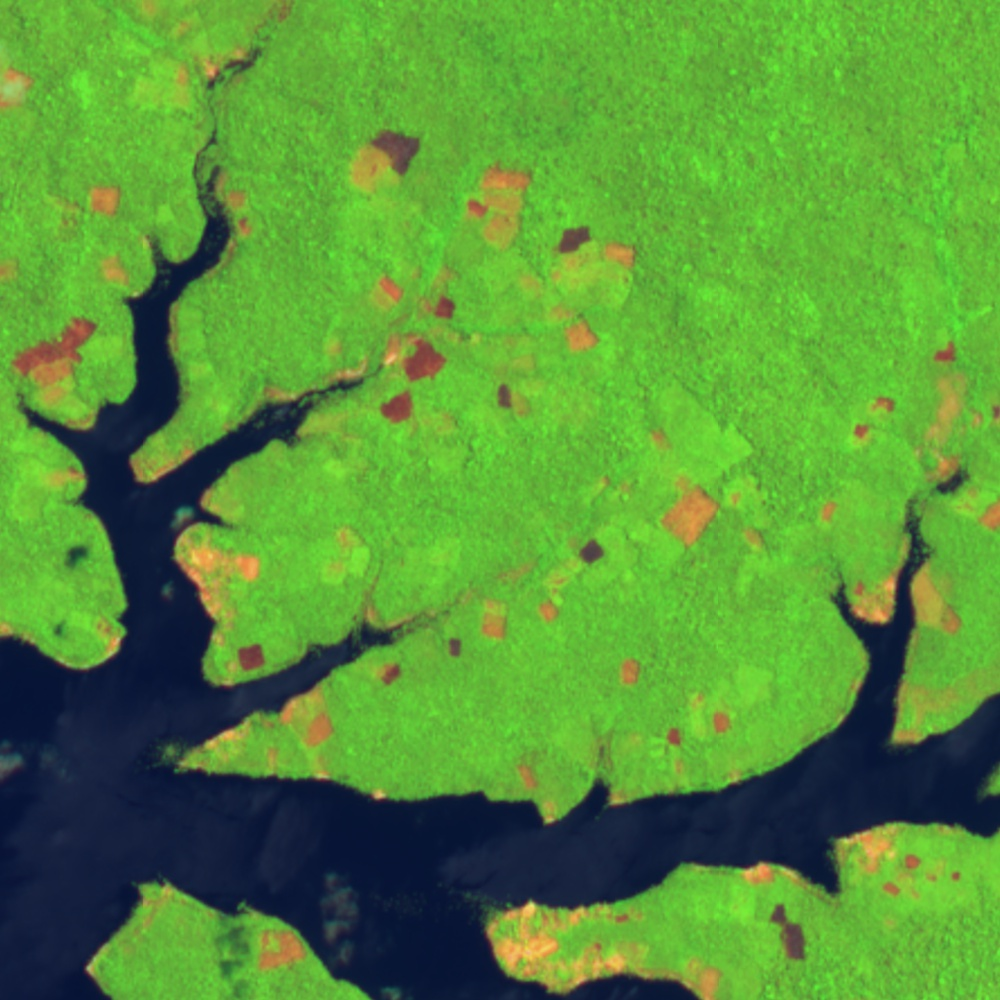legal: (586, 425, 774, 557), (480, 899, 722, 1000), (249, 332, 453, 427), (129, 1, 292, 115), (176, 525, 269, 682), (838, 539, 971, 639), (656, 663, 779, 768), (94, 880, 222, 980), (917, 337, 1000, 491), (317, 525, 436, 629), (519, 220, 649, 312), (6, 315, 100, 429), (839, 816, 966, 900), (496, 318, 593, 424), (42, 179, 137, 286), (454, 160, 539, 261), (511, 716, 619, 792), (1, 613, 136, 673), (197, 167, 261, 281), (683, 859, 837, 905), (181, 708, 271, 782), (535, 535, 607, 625), (370, 263, 460, 330), (346, 128, 420, 202), (276, 679, 333, 752), (848, 386, 903, 452), (251, 926, 309, 978), (313, 765, 390, 803), (124, 443, 199, 482), (769, 901, 813, 965), (1, 60, 45, 112), (949, 486, 1000, 528), (475, 595, 514, 644), (44, 465, 90, 499), (811, 494, 845, 531), (617, 653, 645, 690), (1, 250, 24, 293), (379, 658, 407, 686), (447, 630, 467, 653)
